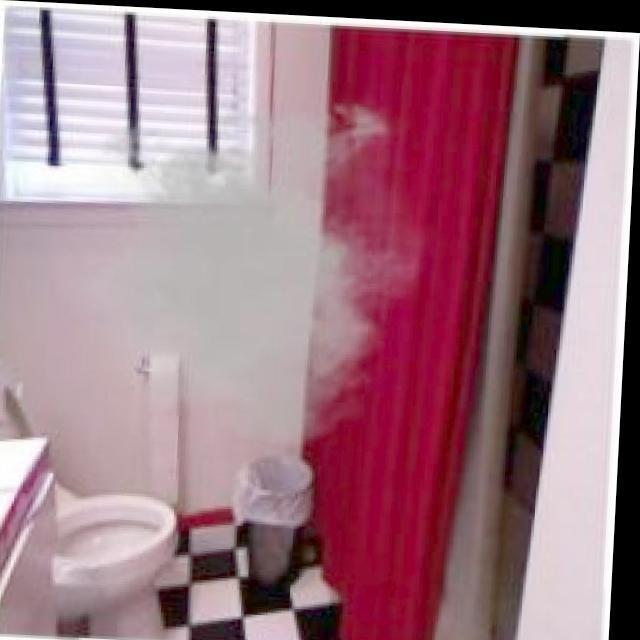Smoke: (61, 83, 427, 446)
